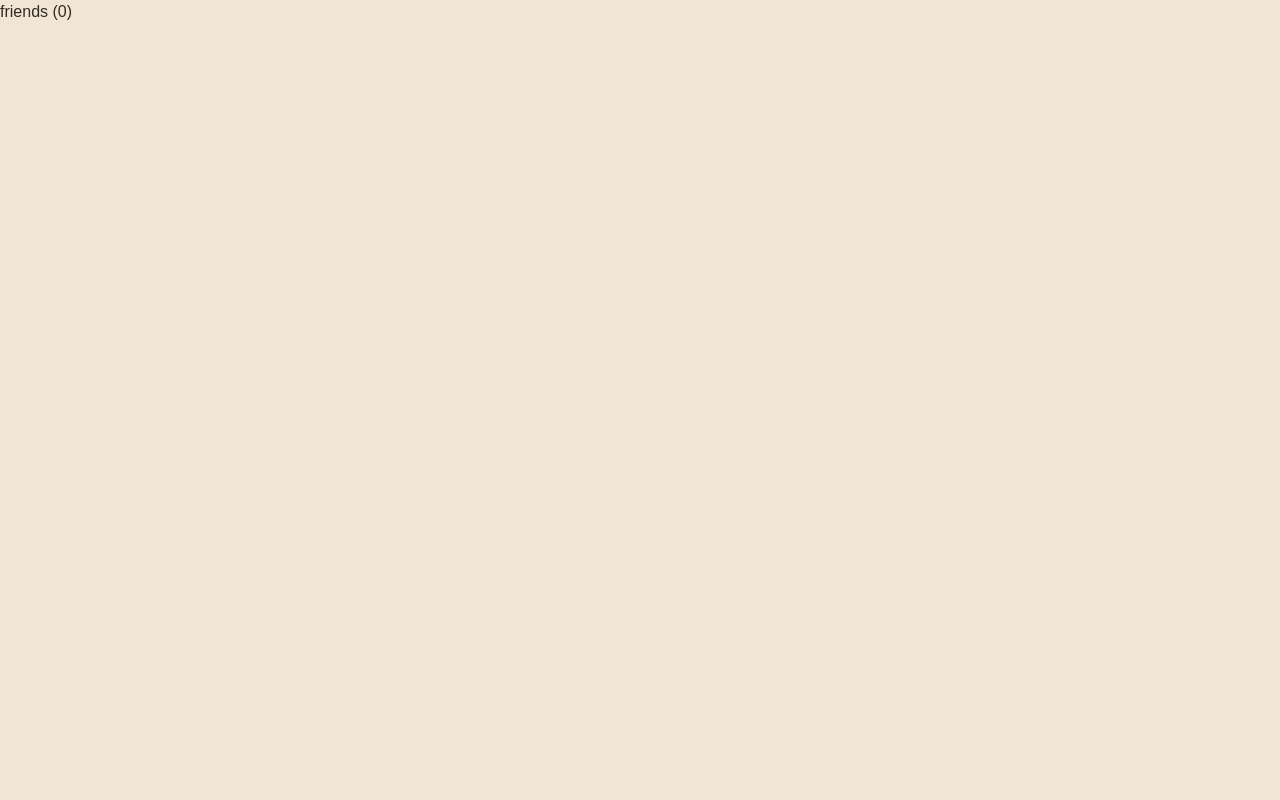
Test: FriendsPanel › shows a loading state
Click the button "friends (0)": [36, 12] box [0,0,72,24]
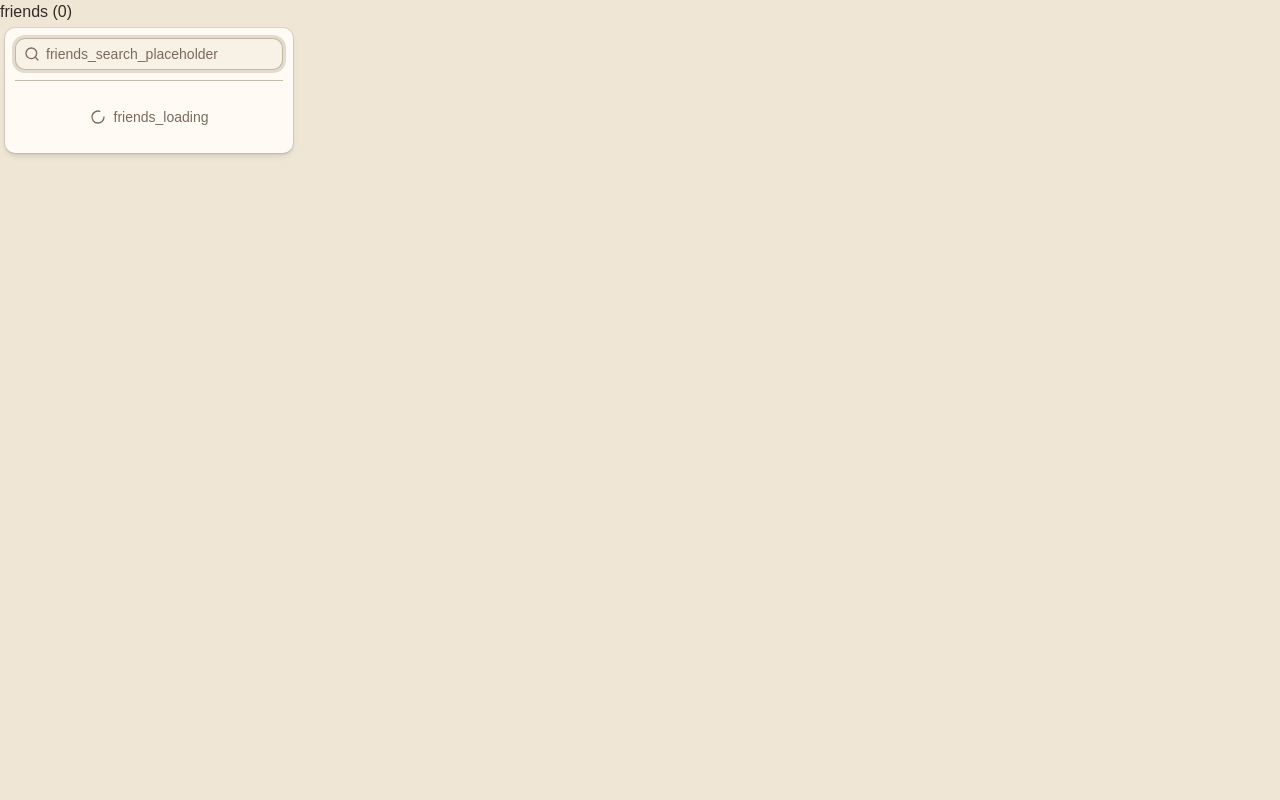
Now the text "friends_loading" is shown, box [90,109,208,125]
